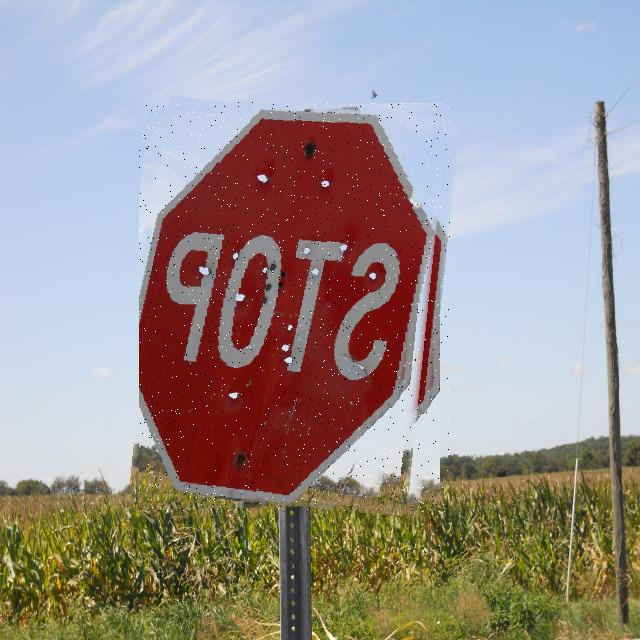stop: (139, 102, 450, 511)
